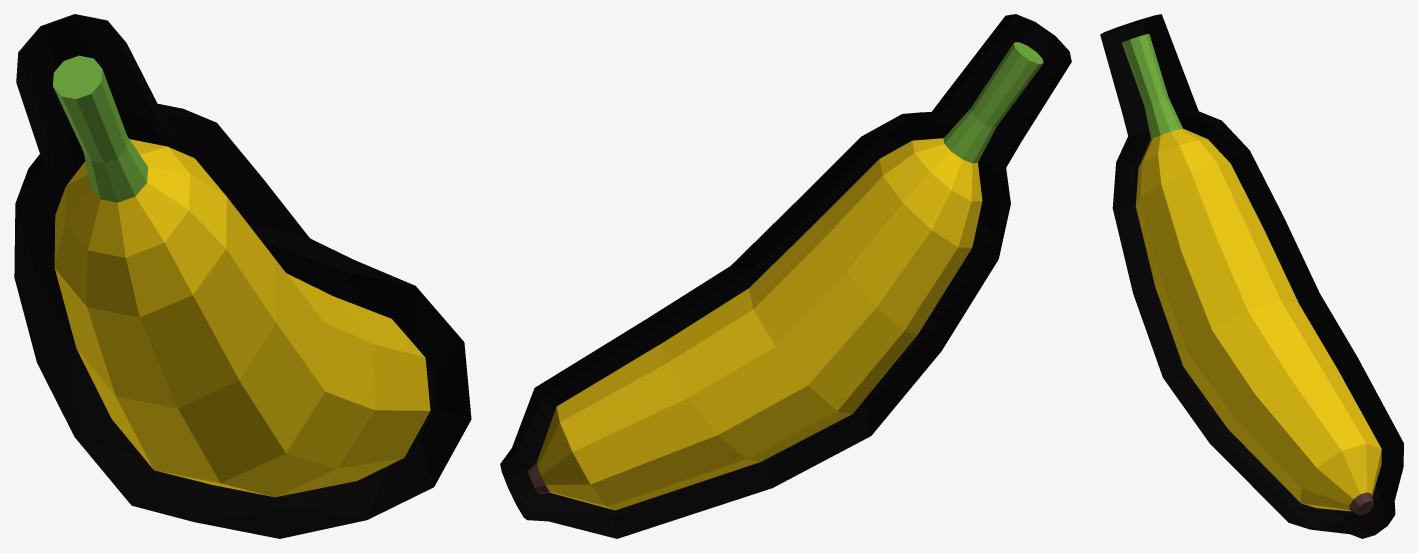
The model's file is banana.fbx.
3 renders of one model, left to right at view 1: azimuth 30°, elevation 25°; view 2: azimuth 150°, elevation 25°; view 3: azimuth 270°, elevation 25°, orthographic. The views are drawn at different scales.
Parts seen in each view (by area): view 1: Banana; view 2: Banana; view 3: Banana.
Part boxes in pixels (x1=…): Banana: x1=14, y1=14, x2=471, y2=538; Banana: x1=500, y1=14, x2=1071, y2=538; Banana: x1=1100, y1=14, x2=1403, y2=538.
Size of the model in its own units: 84.33 by 93.91 by 65.17.
